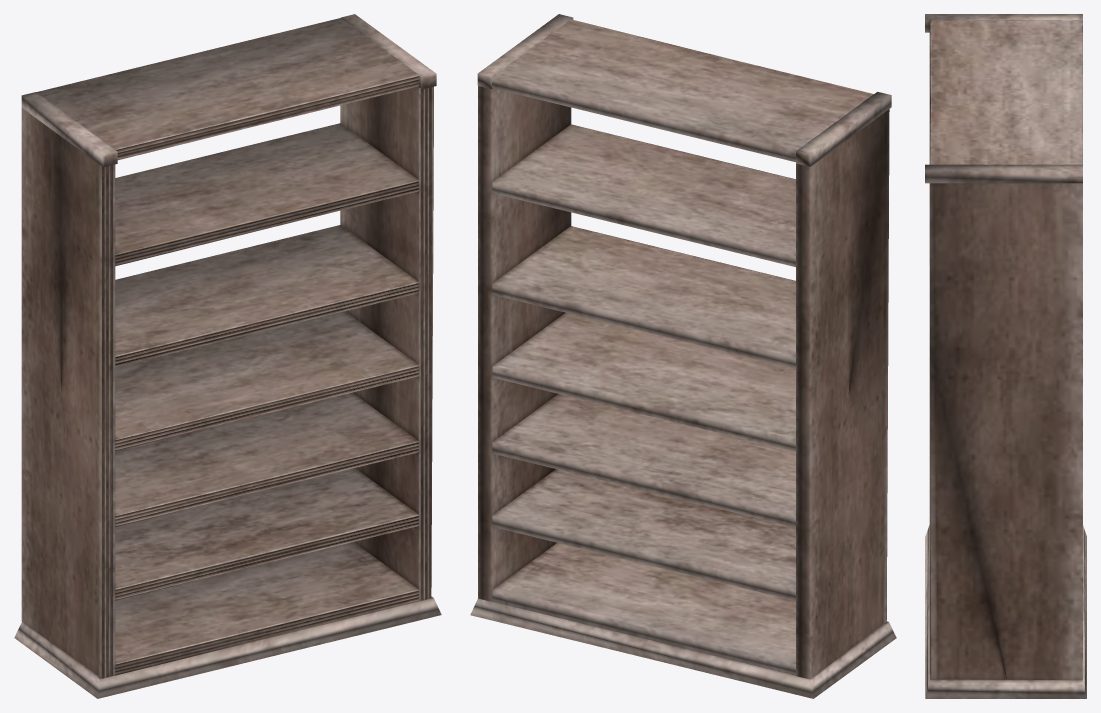
The model's file is wooden_bookshelf_worn.glb.
The picture shows the model from 3 angles, left to right: view 1: azimuth 30°, elevation 25°; view 2: azimuth 150°, elevation 25°; view 3: azimuth 270°, elevation 25°; orthographic projection. The views are drawn at different scales.
Parts seen in each view (by area): view 1: wooden_bookshelf_worn; view 2: wooden_bookshelf_worn; view 3: wooden_bookshelf_worn.
Part boxes in pixels (box(x1,y1,x2,y2)): wooden_bookshelf_worn: box(14, 14, 441, 698); wooden_bookshelf_worn: box(470, 14, 896, 698); wooden_bookshelf_worn: box(925, 14, 1086, 698).
Bounding box in the file's own units: 1.37 × 2.06 × 0.5766.
Materials: 1 (1 with a texture image).
